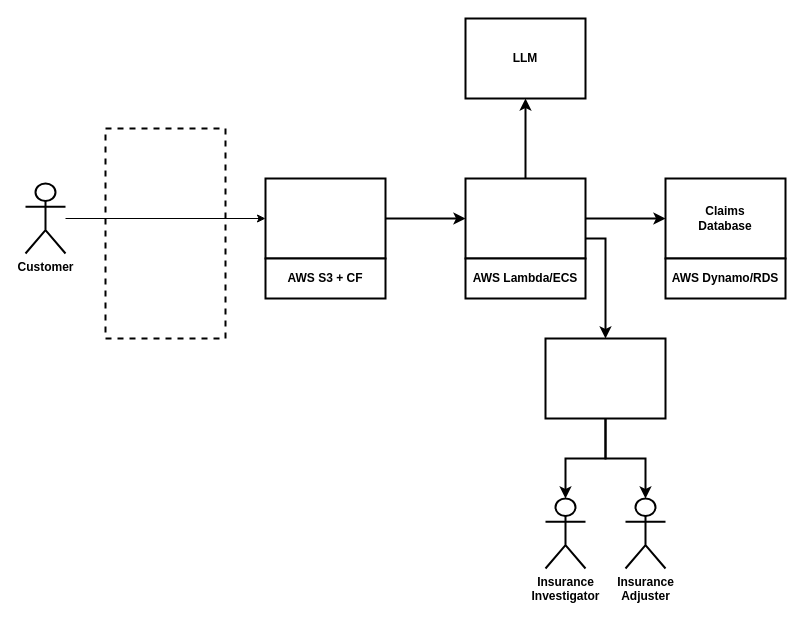
This 803x621 diagram has some shape labels left out. Here are the shapes that lost their labels. From the top down, the box of each, then its label:
(104, 127, 226, 339): AWS WAF + ALB
(264, 177, 386, 259): Claims Frontend (Angular)
(464, 177, 586, 259): Claims Backend (FastAPI)
(544, 337, 666, 419): Queues
